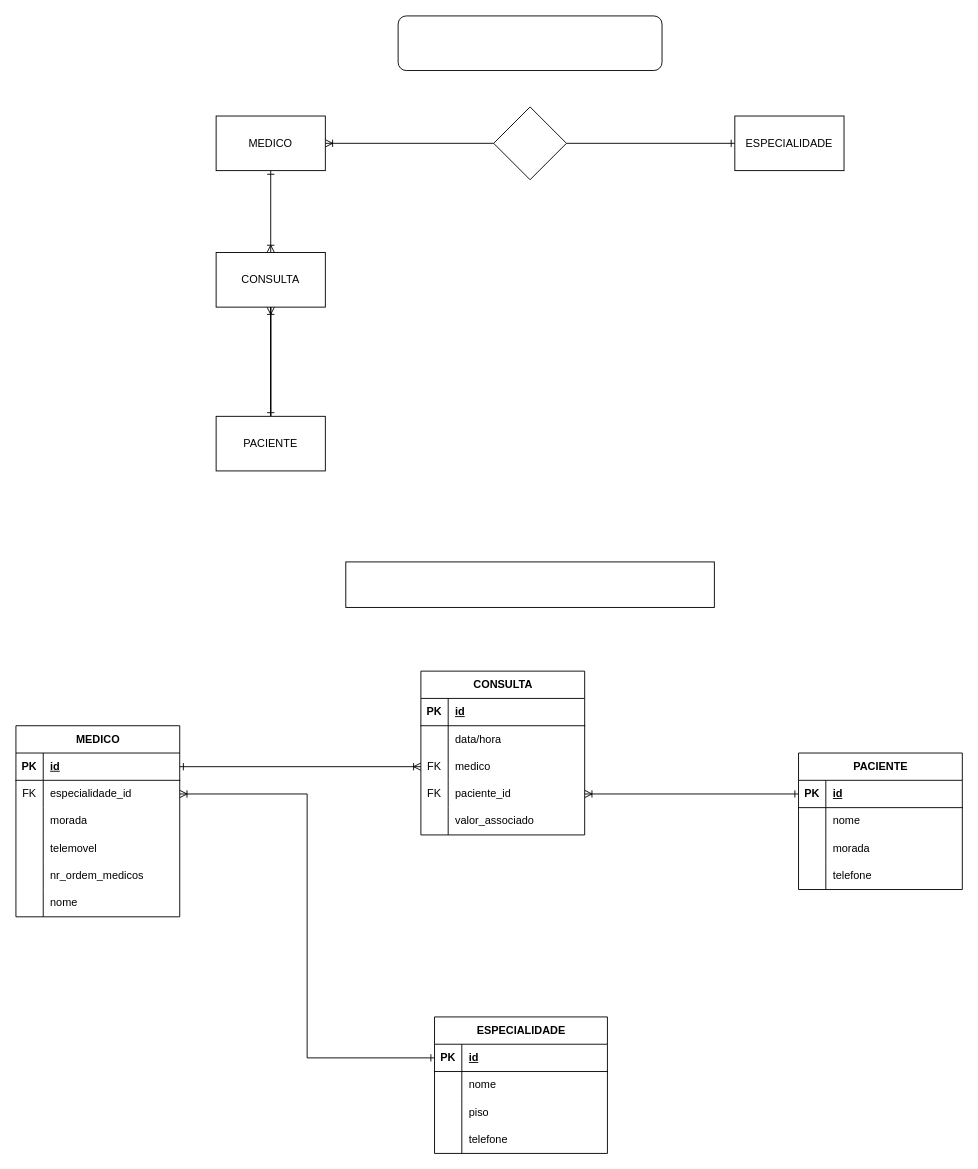
The diagram is 978 pixels wide and 1169 high, and some of its shapes have lost their labels. Each missing label, with the centre of its shape:
"EX01 Hospital DIAGRAMA DE E-R" belongs at (529,43).
"Modelo de dados" belongs at (529,584).
"TEM" belongs at (529,143).
